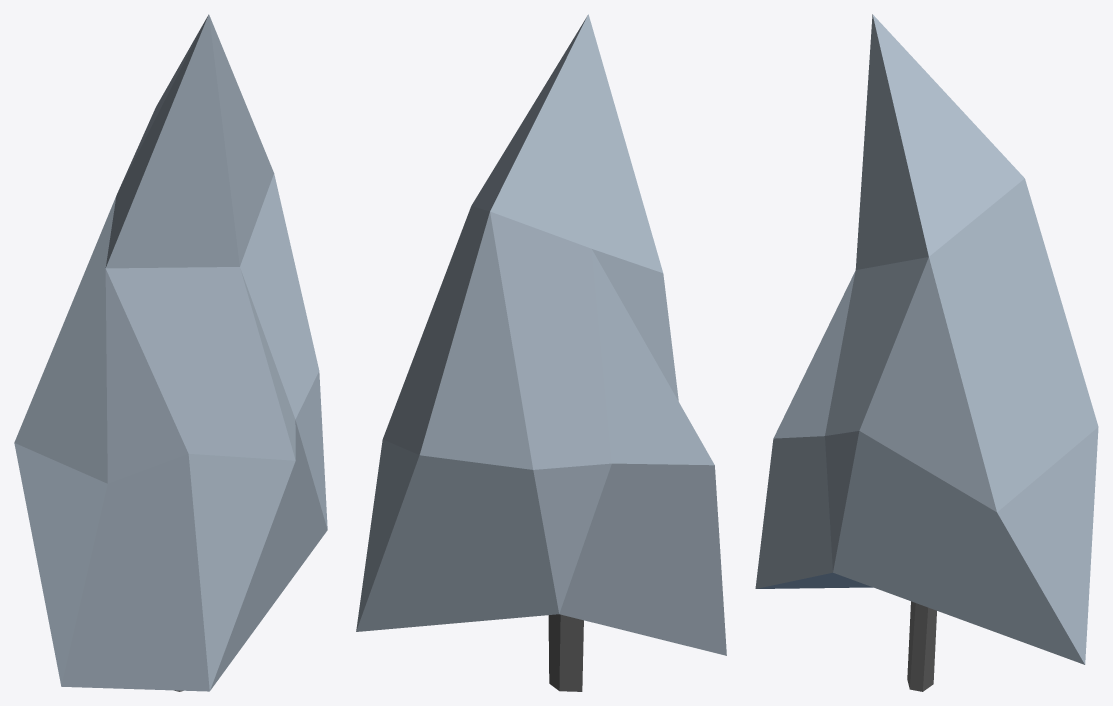
Rendered from TreeWinter8_Alt1.fbx.
3 renders of one model, left to right at view 1: azimuth 30°, elevation 25°; view 2: azimuth 150°, elevation 25°; view 3: azimuth 270°, elevation 25°, orthographic. The views are drawn at different scales.
Visible parts, largest first — view 1: TreeWinter8_Alt1; view 2: TreeWinter8_Alt1; view 3: TreeWinter8_Alt1.
Boxes of the visible parts, bbox=[...] form: TreeWinter8_Alt1: bbox=[14, 14, 327, 691]; TreeWinter8_Alt1: bbox=[356, 14, 726, 691]; TreeWinter8_Alt1: bbox=[755, 14, 1098, 691].
Size of the model in its own units: 1.31 by 2.73 by 1.27.
